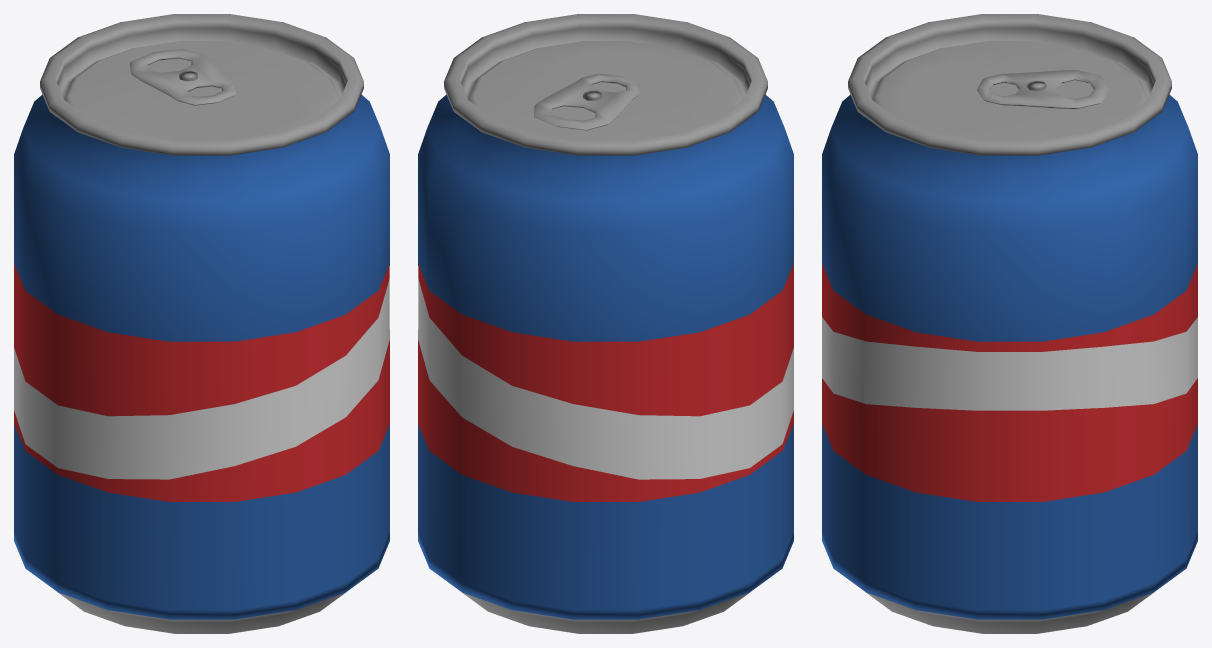
Rendered from Coke2_anim01.fbx.
3 views of the same model, side by side, from view 1: azimuth 30°, elevation 25°; view 2: azimuth 150°, elevation 25°; view 3: azimuth 270°, elevation 25° (orthographic).
Parts seen in each view (by area): view 1: coke2; view 2: coke2; view 3: coke2.
Boxes of the visible parts, x1,y1,x2,y2 form: coke2: (14, 14, 389, 633); coke2: (418, 14, 793, 633); coke2: (822, 14, 1197, 633).
Size of the model in its own units: 2.84 by 4.16 by 2.89.
